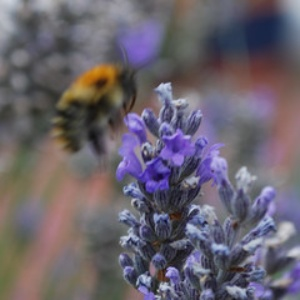bee: (45, 44, 160, 165)
